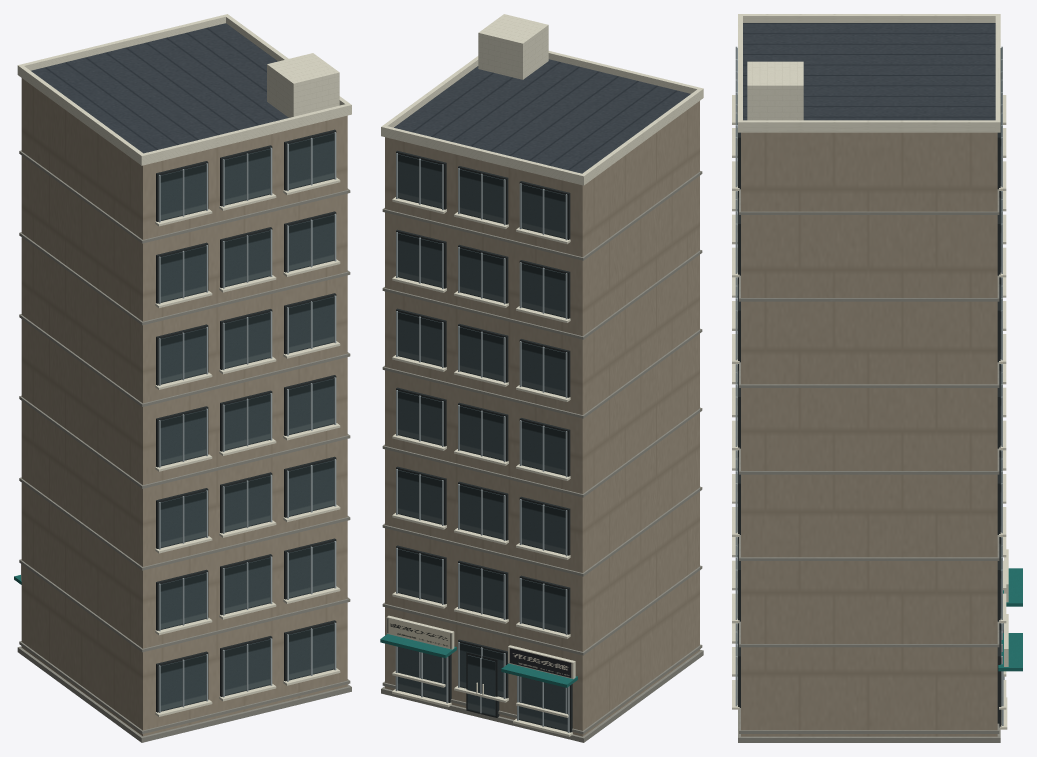
Rendered from office_005.obj.
3 views of the same model, side by side, from view 1: azimuth 30°, elevation 25°; view 2: azimuth 150°, elevation 25°; view 3: azimuth 270°, elevation 25° (orthographic). The views are drawn at different scales.
Visible parts, largest first — view 1: office_005; view 2: office_005; view 3: office_005.
Boxes of the visible parts, x1=… form: office_005: x1=14, y1=14, x2=351, y2=742; office_005: x1=380, y1=14, x2=703, y2=742; office_005: x1=732, y1=14, x2=1022, y2=742.
Size of the model in its own units: 8.2 by 23.05 by 9.3.
1 material, 1 textured.
